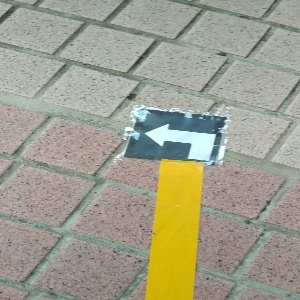left: (126, 107, 228, 165)
